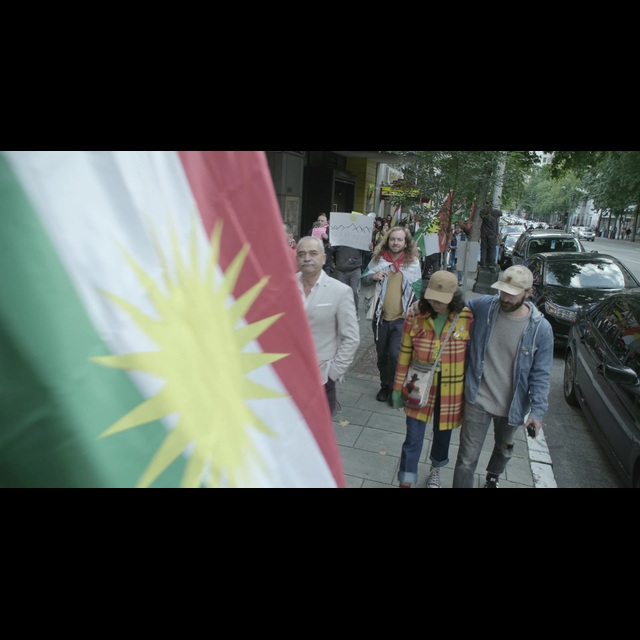IBKY: (92, 210, 297, 484)
